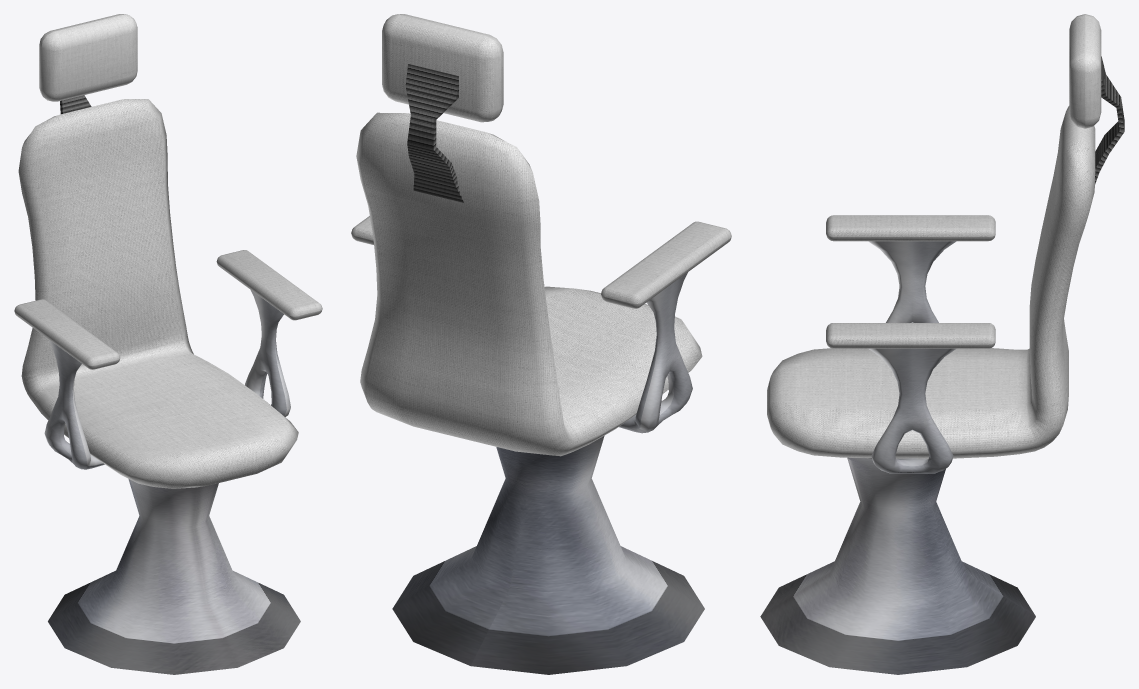
File: chair.FBX
3 renders of one model, left to right at view 1: azimuth 30°, elevation 25°; view 2: azimuth 150°, elevation 25°; view 3: azimuth 270°, elevation 25°, orthographic. The views are drawn at different scales.
Visible parts, largest first — view 1: chair; view 2: chair; view 3: chair.
Boxes of the visible parts, left/top/right/bottom form: chair: left=14, top=14, right=322, bottom=674; chair: left=351, top=14, right=731, bottom=674; chair: left=760, top=14, right=1124, bottom=674.
Bounding box in the file's own units: 24.36 × 52.96 × 30.
